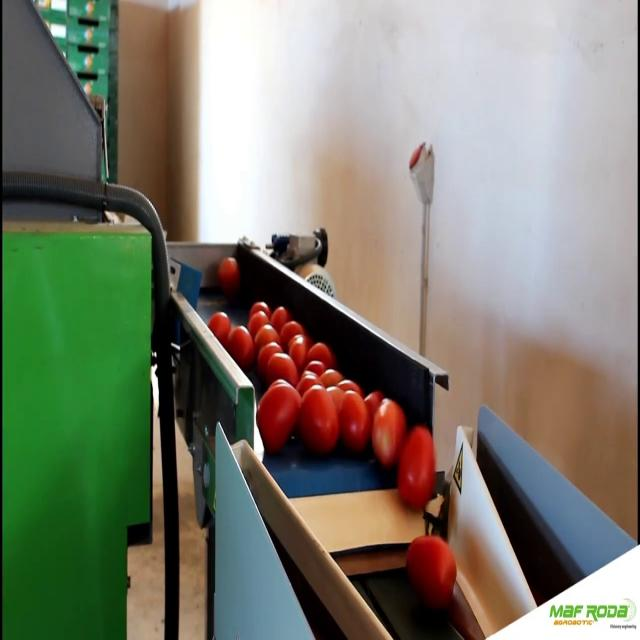Tomato: (404, 542, 456, 606), (399, 430, 438, 511), (256, 384, 300, 448), (301, 386, 339, 458), (372, 400, 406, 460), (341, 392, 369, 452), (227, 328, 257, 372), (266, 351, 298, 385), (218, 255, 239, 290), (205, 310, 230, 339), (306, 341, 331, 368), (273, 301, 292, 325), (318, 368, 342, 383), (256, 328, 278, 344), (279, 321, 303, 335), (247, 313, 268, 328), (250, 303, 267, 314)
